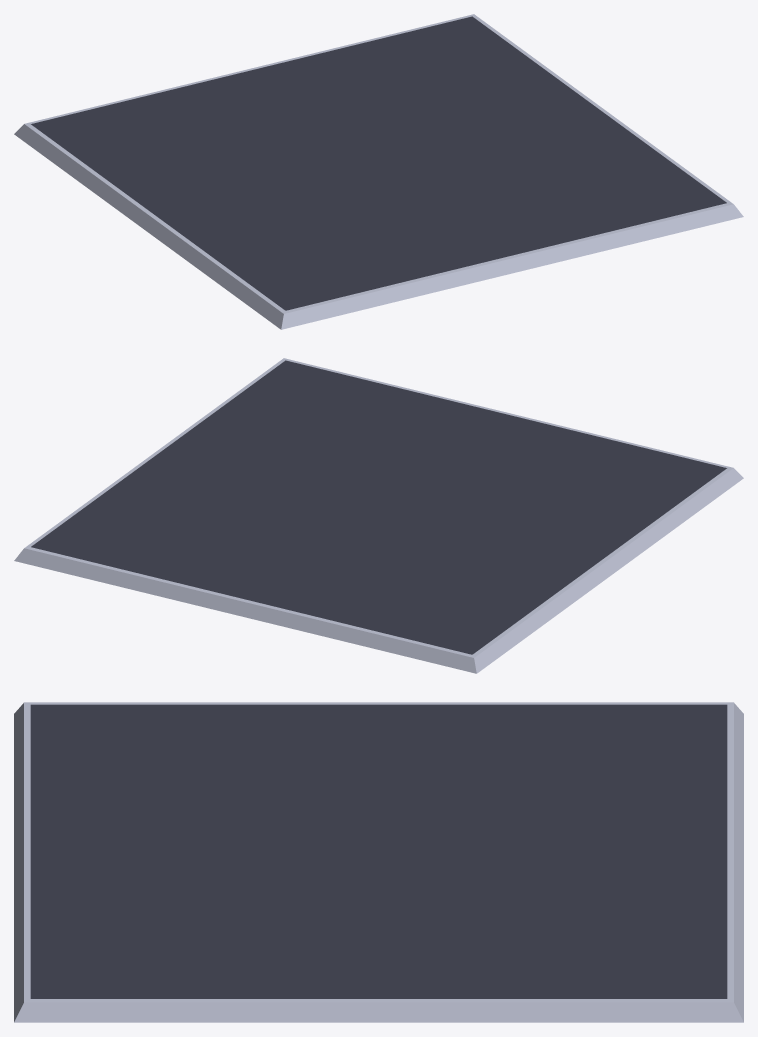
The model's file is FloorGrates.glb.
The picture shows the model from 3 angles, top to bottom: view 1: azimuth 30°, elevation 25°; view 2: azimuth 150°, elevation 25°; view 3: azimuth 270°, elevation 25°; orthographic projection. The views are drawn at different scales.
Visible parts, largest first — view 1: FloorGrates; view 2: FloorGrates; view 3: FloorGrates.
Part boxes in pixels (bbox=[...]): FloorGrates: bbox=[14, 14, 743, 329]; FloorGrates: bbox=[14, 358, 743, 673]; FloorGrates: bbox=[14, 702, 743, 1022].
Bounding box in the file's own units: 1 × 0.0248 × 1.
2 materials, 2 textured.
